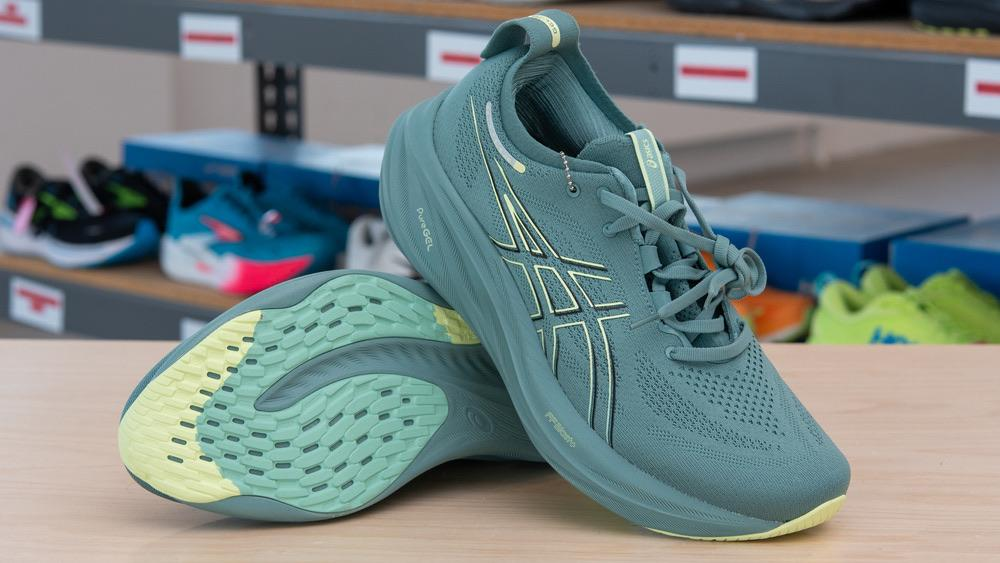asics logo: (462, 101, 644, 456)
hoka logo: (200, 215, 242, 242)
